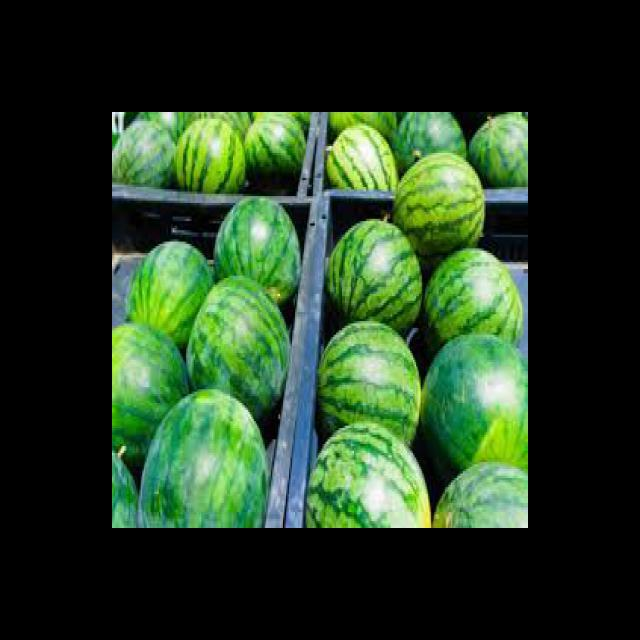watermelon: (137, 388, 270, 528), (185, 274, 291, 422), (421, 332, 528, 473), (316, 318, 422, 449), (303, 420, 431, 528), (112, 322, 191, 470), (325, 218, 424, 334), (423, 247, 524, 350), (124, 240, 215, 354), (392, 151, 486, 258), (215, 195, 302, 302), (432, 462, 528, 528), (174, 119, 246, 194), (326, 124, 398, 191), (392, 112, 468, 173), (467, 112, 528, 186), (243, 112, 307, 182), (113, 120, 177, 189), (178, 112, 252, 142), (328, 112, 397, 142), (112, 452, 138, 528)
